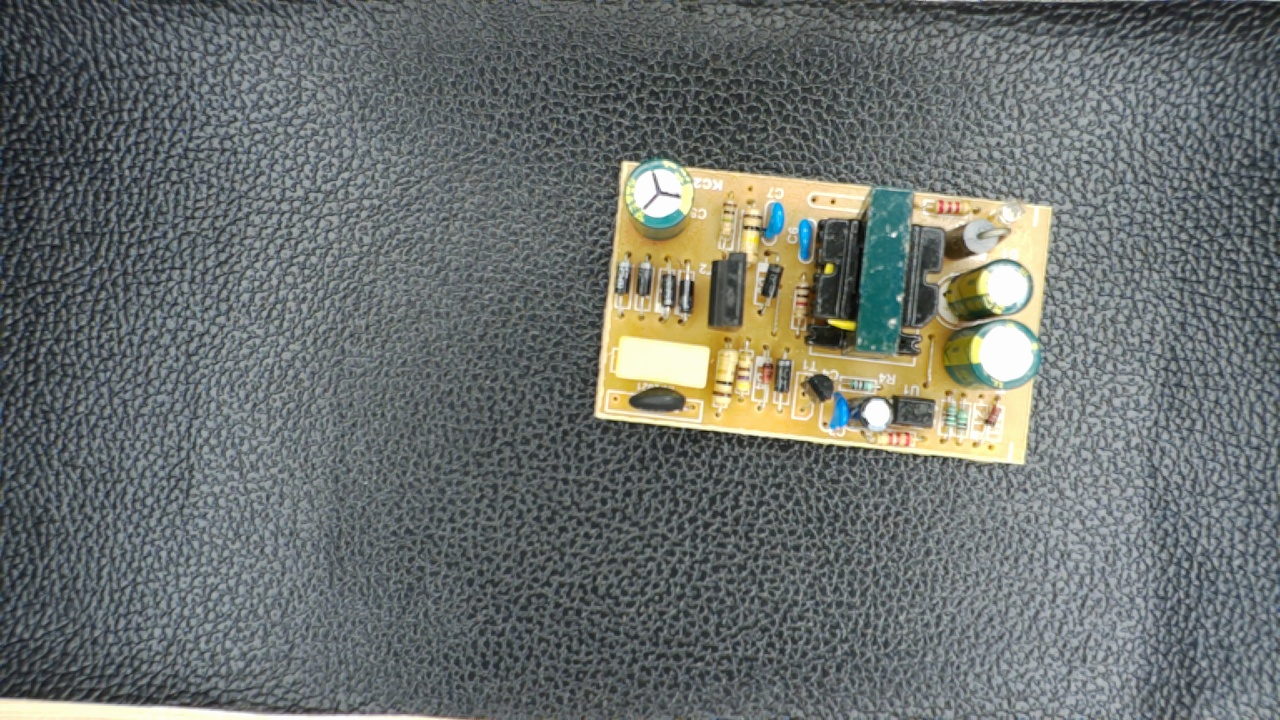fuse: (620, 383, 698, 422)
hv_capacitor: (620, 159, 699, 240)
optocoupler: (885, 389, 942, 432)
